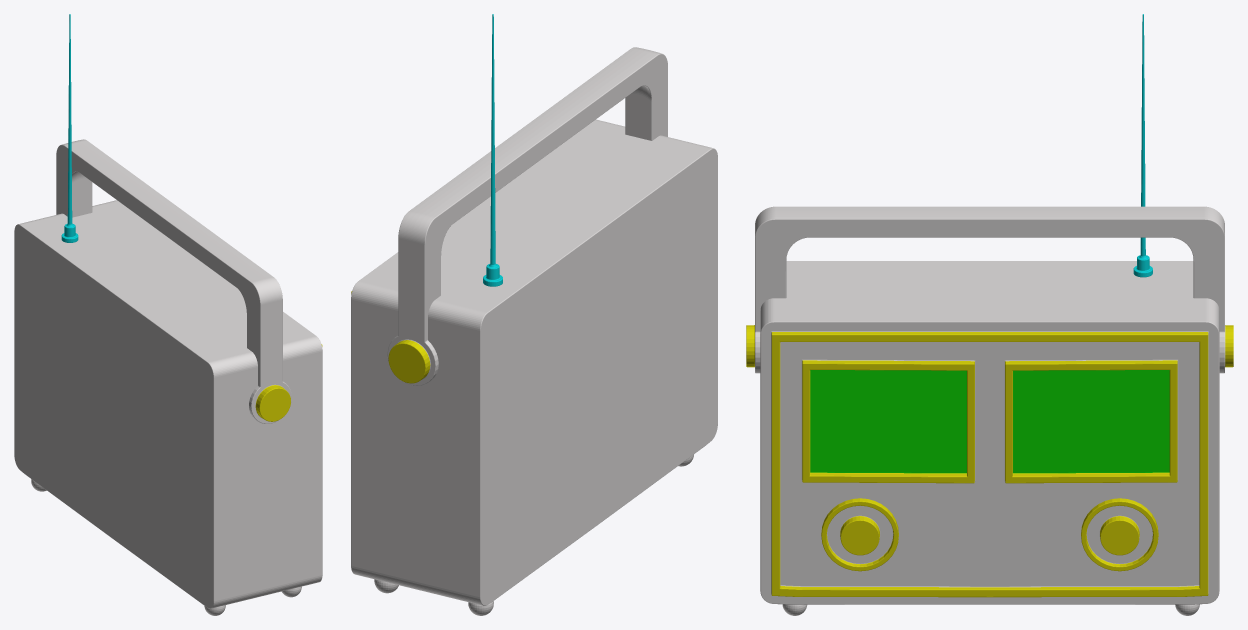
Rendered from RADIO.fbx.
3 views of the same model, side by side, from view 1: azimuth 30°, elevation 25°; view 2: azimuth 150°, elevation 25°; view 3: azimuth 270°, elevation 25° (orthographic). The views are drawn at different scales.
Visible parts, largest first — view 1: Cylinder.001; view 2: Cylinder.001; view 3: Cylinder.001.
Boxes of the visible parts, left/top/right/bottom form: Cylinder.001: left=14, top=14, right=322, bottom=615; Cylinder.001: left=351, top=14, right=717, bottom=615; Cylinder.001: left=746, top=14, right=1233, bottom=615.
Size of the model in its own units: 156 by 621 by 489.
